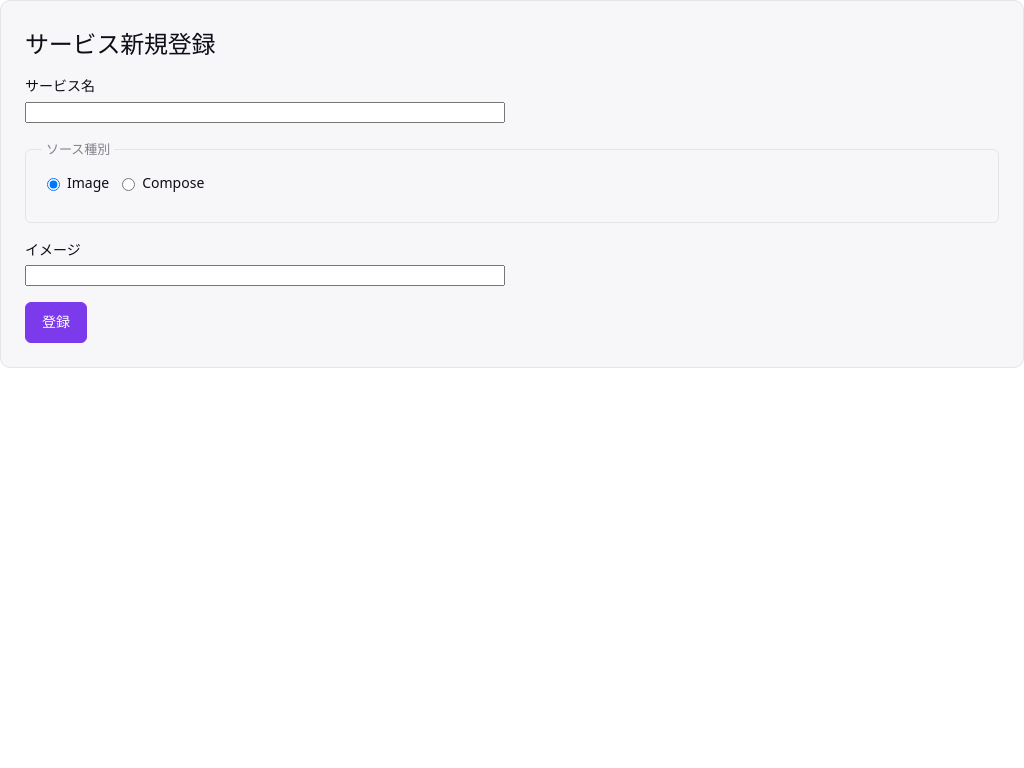
Test: ServiceRegisterPage › ソース種別でComposeを選ぶとイメージ欄が隠れ、compose_content欄が表示される(コンテナ名の入力は不要)
What coordinates should you click on to do the following:
click the radio button labelled "Compose"
I would click on:
 (129, 184)
Its box is [122, 178, 135, 191].
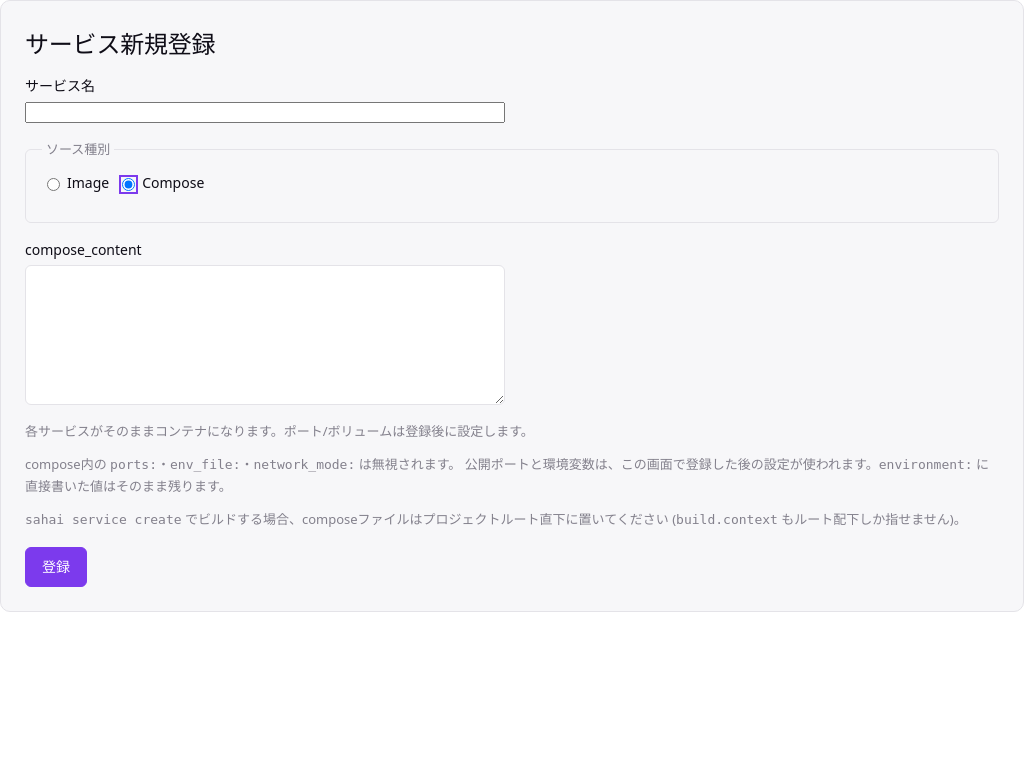
Check: the label labelled "イメージ" is gone
Check: the text box labelled "compose_content" is shown, box [25, 265, 505, 405]
